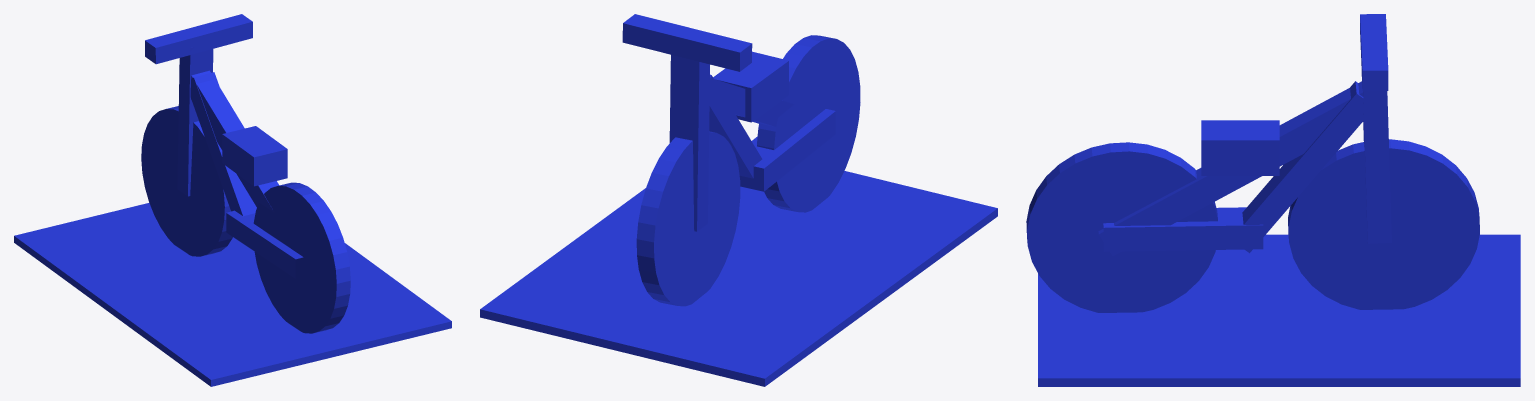
File: motorbike.glb
The picture shows the model from 3 angles, left to right: view 1: azimuth 30°, elevation 25°; view 2: azimuth 150°, elevation 25°; view 3: azimuth 270°, elevation 25°; orthographic projection. The views are drawn at different scales.
Parts seen in each view (by area): view 1: motorbike; view 2: motorbike; view 3: motorbike.
Part boxes in pixels (<box>): motorbike: <box>14,14,451,386</box>; motorbike: <box>480,14,997,386</box>; motorbike: <box>1026,14,1520,386</box>.
Size of the model in its own units: 2 by 1.79 by 2.9.
